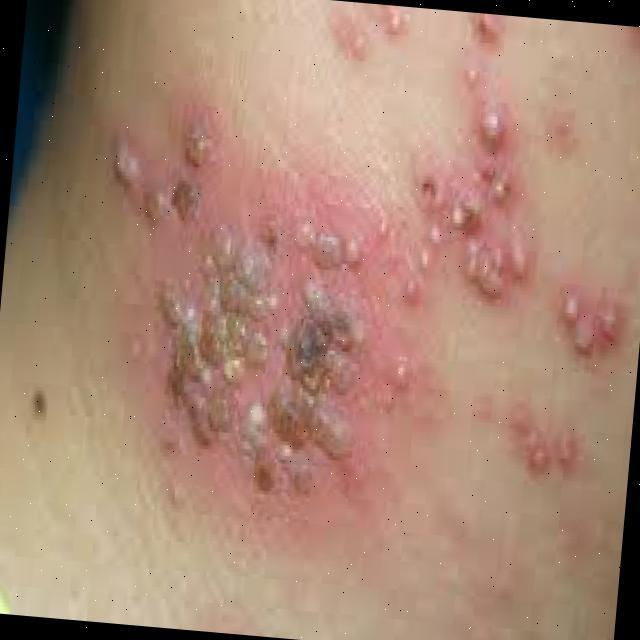Shingles: (90, 0, 625, 495)
